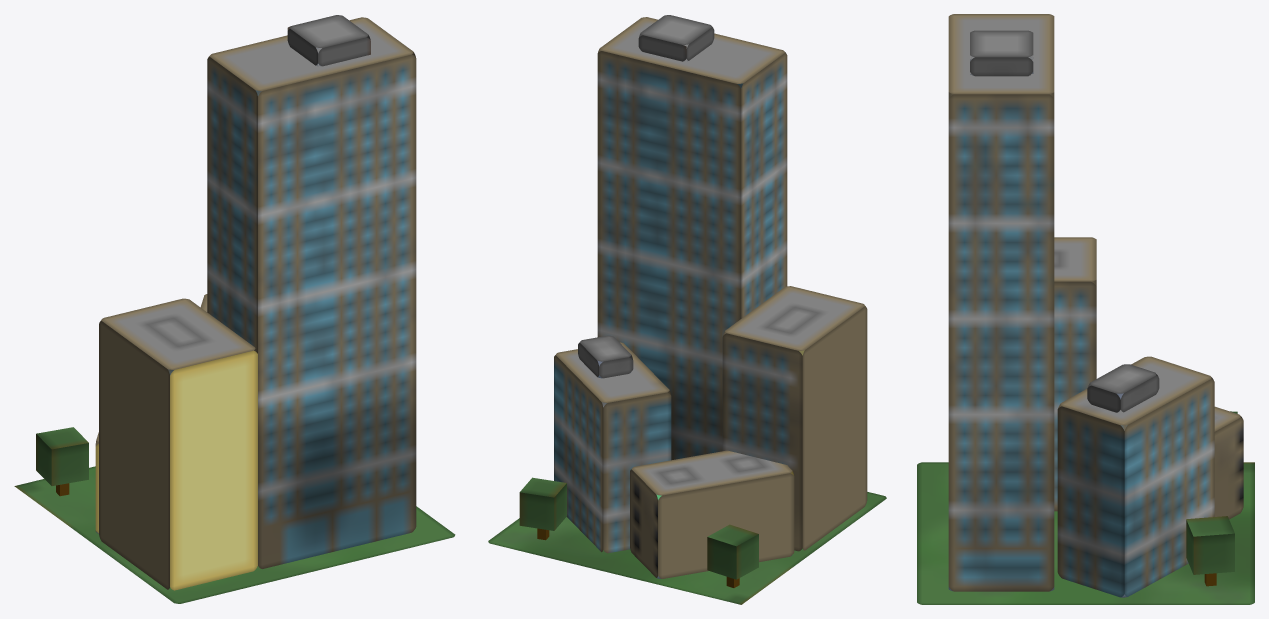
Rendered from kempporter.obj.
3 renders of one model, left to right at view 1: azimuth 30°, elevation 25°; view 2: azimuth 150°, elevation 25°; view 3: azimuth 270°, elevation 25°, orthographic. The views are drawn at different scales.
Parts seen in each view (by area): view 1: mesh, plane; view 2: mesh, plane; view 3: mesh, plane.
Part boxes in pixels (x1,y1,x2,y2): mesh: (36,15,416,590); plane: (14,466,455,603); mesh: (519,15,867,587); plane: (488,492,886,604); mesh: (948,14,1243,597); plane: (917,462,1254,604).
Bounding box in the file's own units: 1 × 1.69 × 1.
2 materials, 1 textured.
